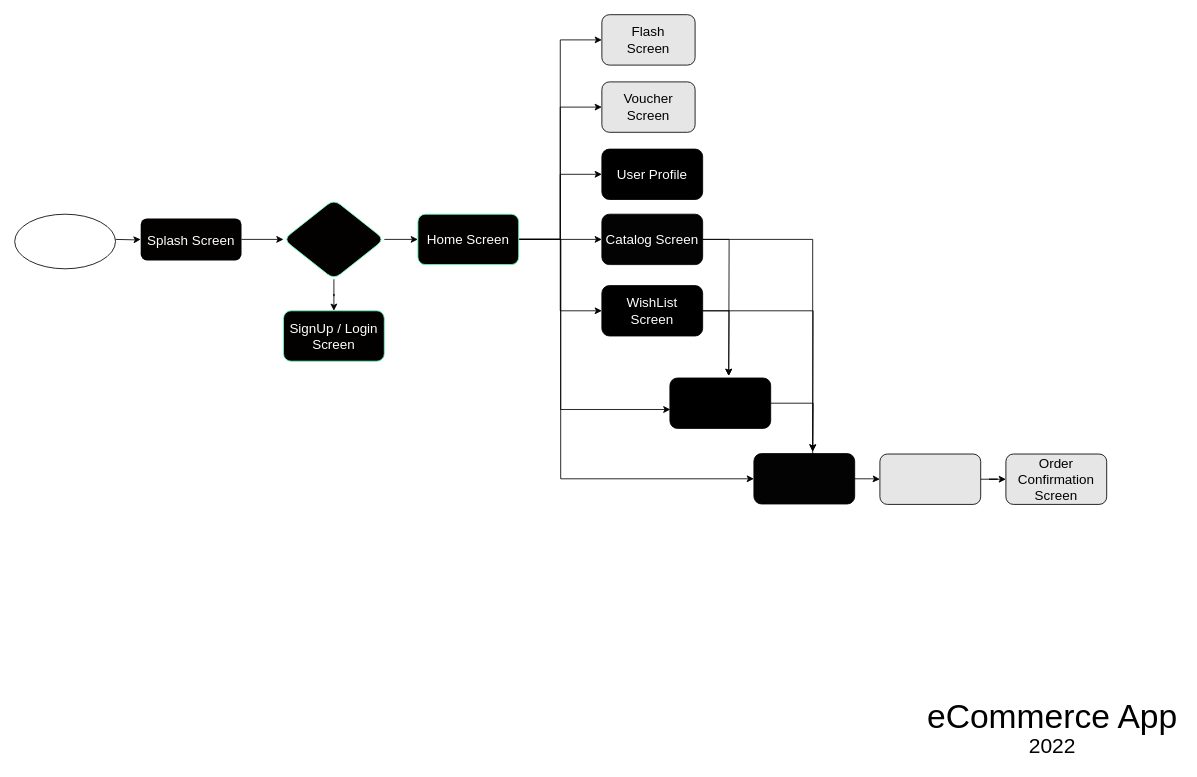
Image size: 1197x777. Some labels were removed from this diagram. Each missing label, with the centre of its shape:
"Cart Screen" goes at (804,478).
"Checkout Screen" goes at (930,478).
"Product Screen" goes at (720,402).
"Start" goes at (65,241).
"User Auth?" goes at (333,239).
